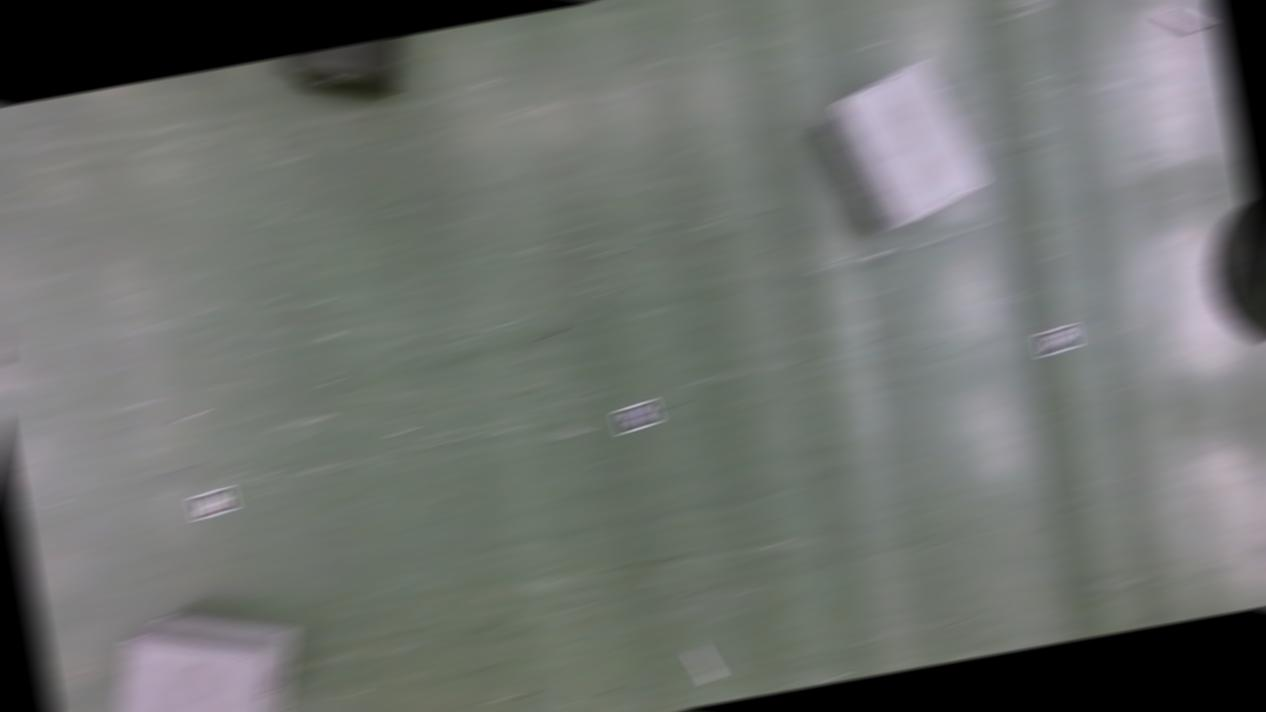probes: (1158, 4, 1209, 36), (690, 642, 721, 682), (0, 323, 8, 368)
rako: (813, 50, 990, 234), (98, 591, 313, 711), (274, 37, 412, 111)
